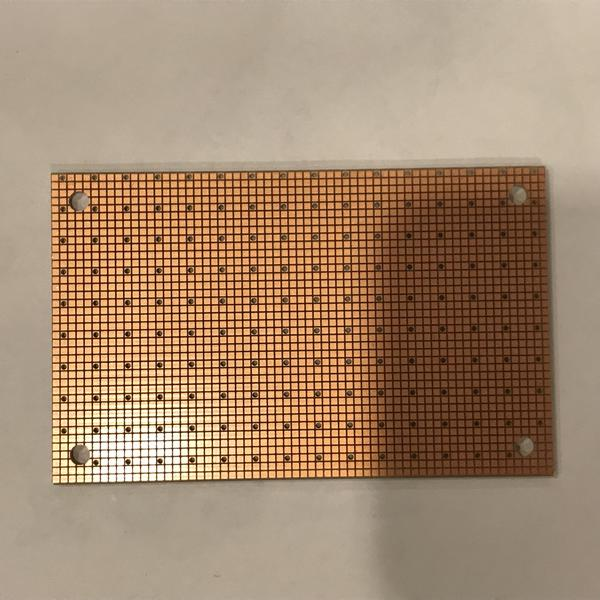board: (48, 165, 561, 485)
